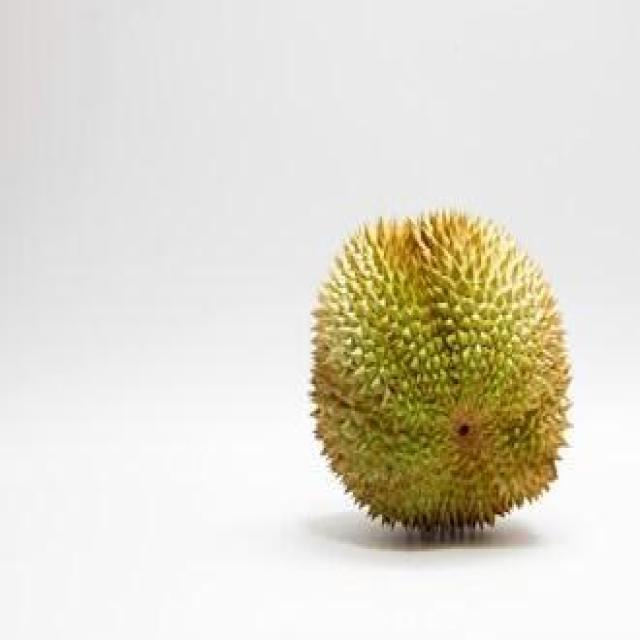mature: (311, 209, 570, 529)
